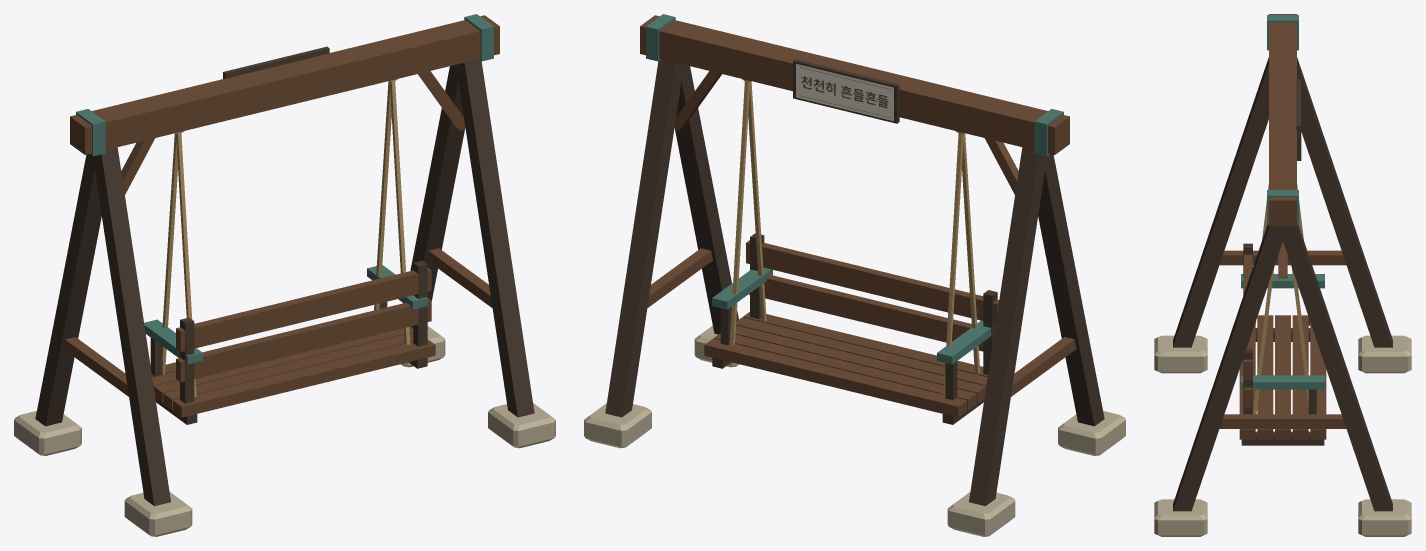
File: F10_Two_Seat_Garden_Swing.fbx
3 renders of one model, left to right at view 1: azimuth 30°, elevation 25°; view 2: azimuth 150°, elevation 25°; view 3: azimuth 270°, elevation 25°, orthographic. The views are drawn at different scales.
Parts seen in each view (by area): view 1: Swing_Frame, Swing_Seat, Front_Label; view 2: Swing_Frame, Swing_Seat, Front_Label; view 3: Swing_Frame, Swing_Seat, Front_Label.
Boxes of the visible parts, bbox=[...] form: Swing_Frame: bbox=[14, 14, 555, 536]; Swing_Seat: bbox=[144, 80, 435, 424]; Front_Label: bbox=[223, 46, 329, 78]; Swing_Frame: bbox=[584, 14, 1125, 536]; Swing_Seat: bbox=[704, 80, 999, 424]; Front_Label: bbox=[793, 59, 899, 123]; Swing_Frame: bbox=[1154, 14, 1411, 536]; Swing_Seat: bbox=[1239, 184, 1326, 445]; Front_Label: bbox=[1296, 79, 1301, 160].
Size of the model in its own units: 2.99 by 2.57 by 1.74.
7 materials, 1 textured.
